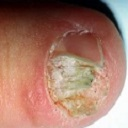Nail Infection: (47, 56, 108, 112)
